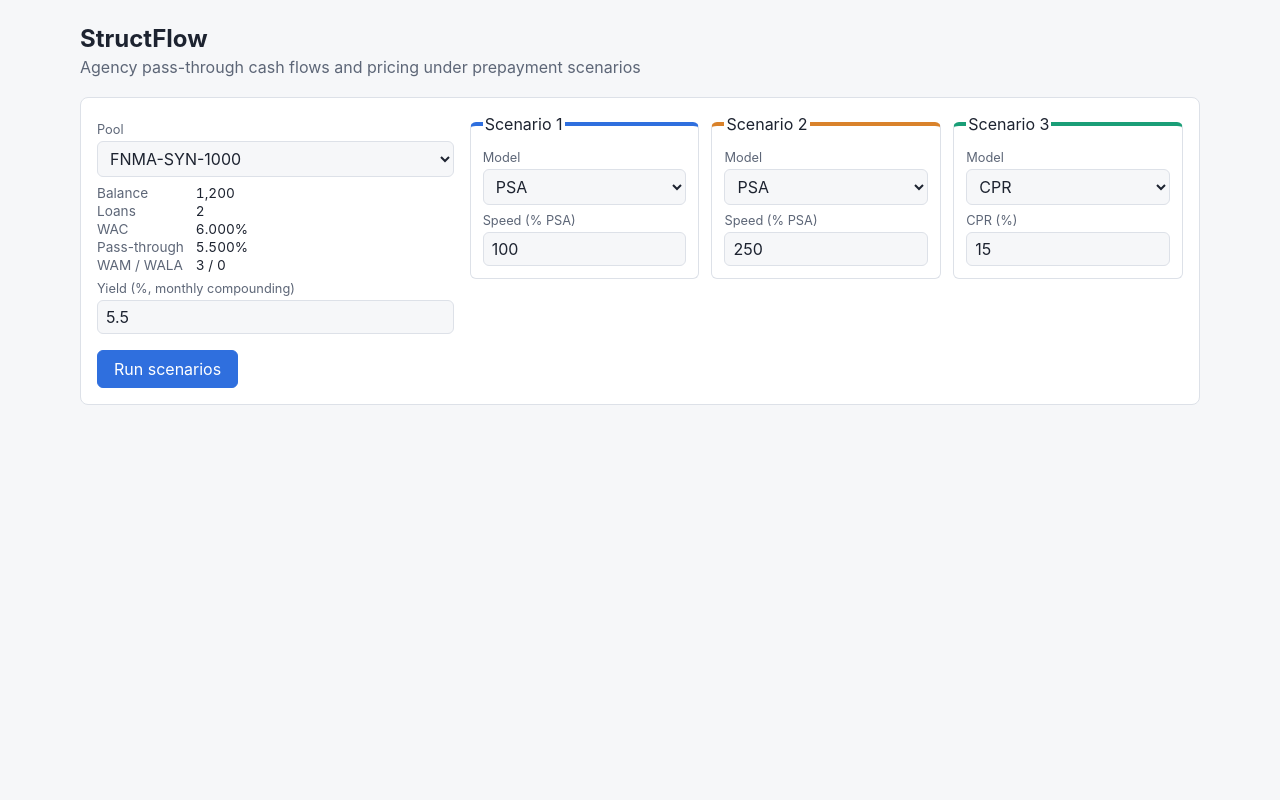
it: runs three scenarios and compares them side by side
Step 1. Replace the text in the 2nd number field labelled "Speed (% PSA)" with "300" → (826, 249), box [724, 232, 928, 266]
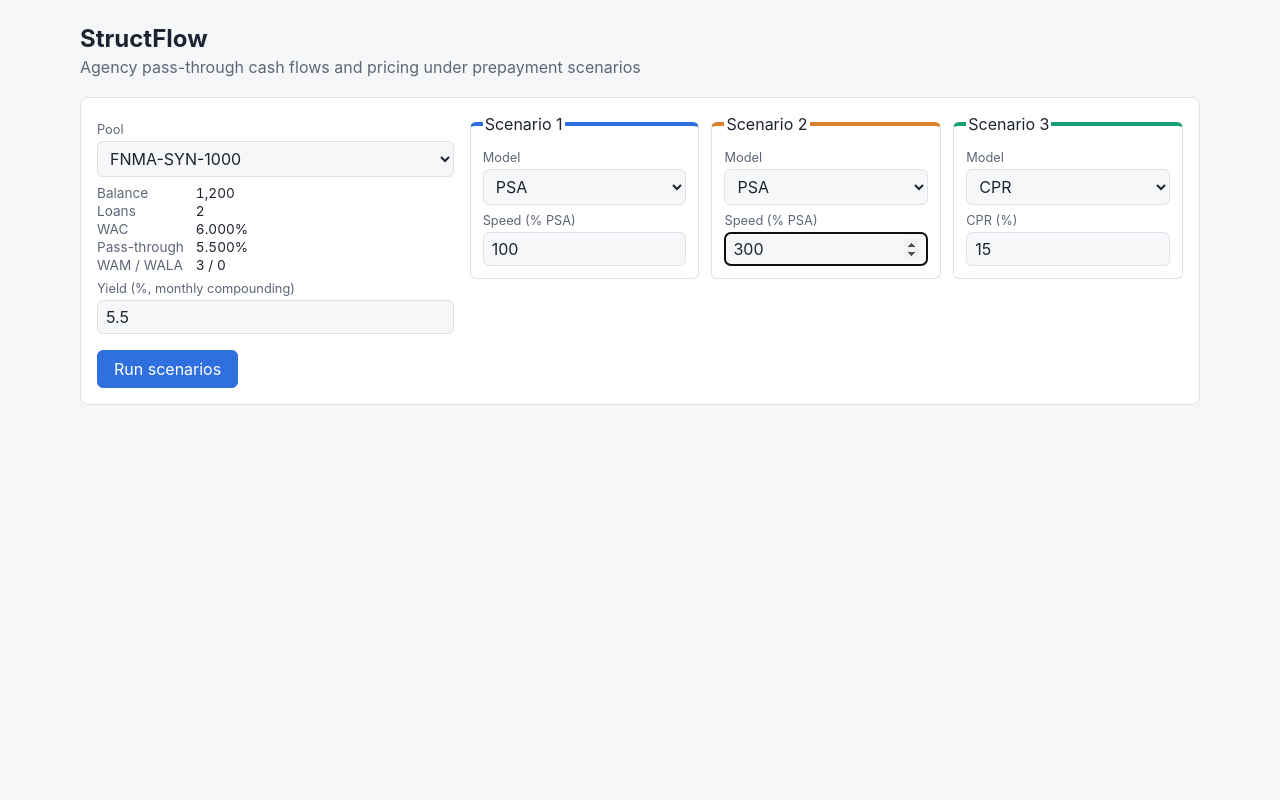
Step 2. Click the button "Run scenarios" → (168, 369), box [97, 350, 238, 388]
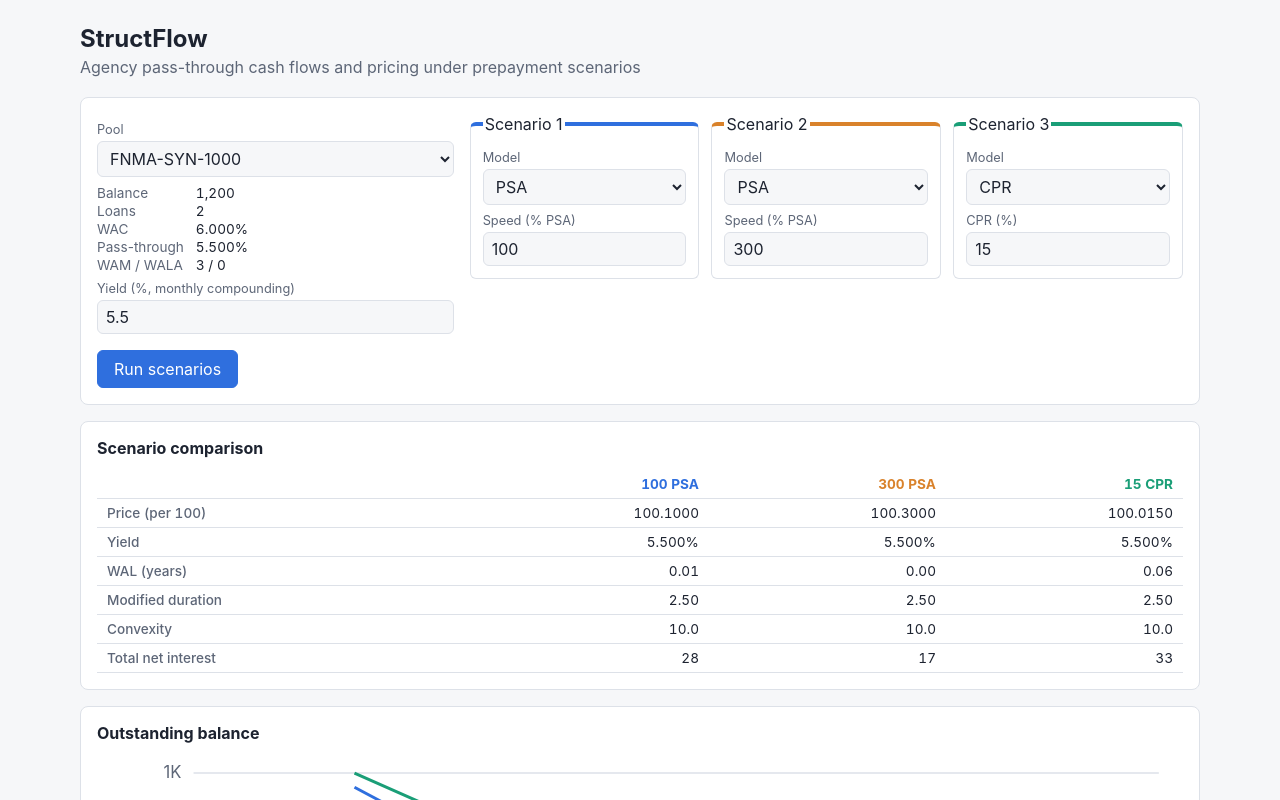
Now the column headings read "", "100 PSA", "300 PSA", "15 CPR", in this order, box [97, 470, 472, 498]; [472, 470, 709, 498]; [709, 470, 946, 498]; [946, 470, 1183, 498]
Now the cells read "100.1000", "100.3000", "100.0150", in this order, box [472, 498, 709, 528]; [709, 498, 946, 528]; [946, 498, 1183, 528]
Now the cells read "28", "17", "33", in this order, box [472, 644, 709, 672]; [709, 644, 946, 672]; [946, 644, 1183, 672]
